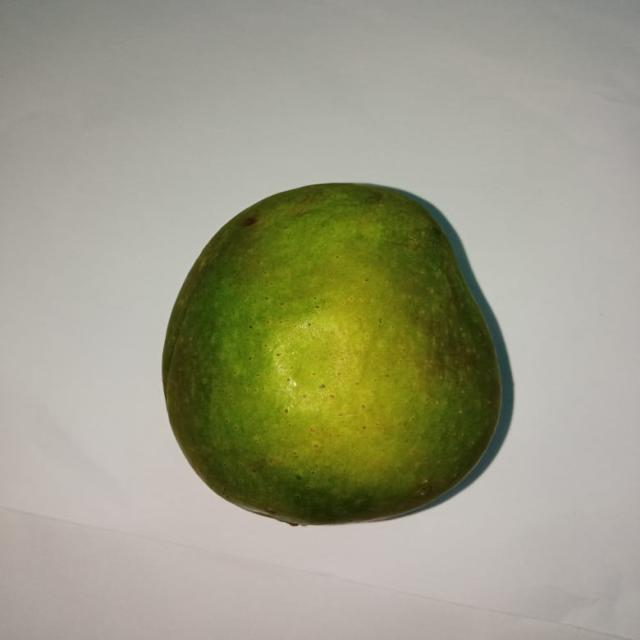fresh_mango: (157, 180, 504, 529)
